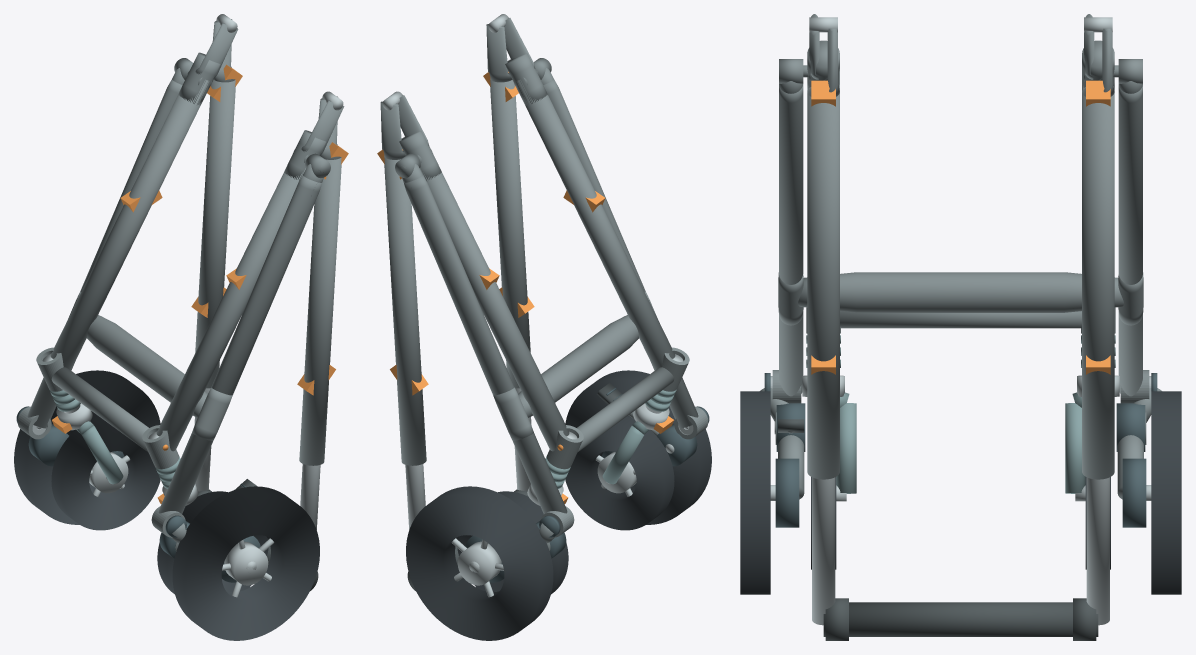
File: w380_state3.glb
The picture shows the model from 3 angles, left to right: view 1: azimuth 30°, elevation 25°; view 2: azimuth 150°, elevation 25°; view 3: azimuth 270°, elevation 25°; orthographic projection. The views are drawn at different scales.
Visible parts, largest first — view 1: RL_tire.013, main_lower_1.001, main_upper_-1.001, V46_rear_leg_-1, FR_tire.013, main_lower_-1.001, main_upper_1.001, RR_tire.013, V46_rearbar, V46_rear_leg_1, front_fixed_round_tube.012, FL_tire.013 (+14 smaller); view 2: RR_tire.013, main_lower_-1.001, main_upper_1.001, V46_rear_leg_1, FL_tire.013, main_lower_1.001, main_upper_-1.001, RL_tire.013, V46_rearbar, V46_rear_leg_-1, front_fixed_round_tube.012, FR_tire.013 (+16 smaller); view 3: main_upper_1.001, main_upper_-1.001, V46_rearbar, round_handle.012, V46_rear_leg_1, V46_rear_leg_-1, RL_tire.013, RR_tire.013, front_fixed_round_tube.012, handle_slider_1.012, handle_slider_-1.012, RL_brake_backplate.013 (+15 smaller).
Part boxes in pixels (<box>): RL_tire.013: <box>172,486,319,640</box>; main_lower_1.001: <box>50,79,209,370</box>; main_upper_-1.001: <box>299,157,341,465</box>; V46_rear_leg_-1: <box>158,175,321,513</box>; FR_tire.013: <box>51,416,160,530</box>; main_lower_-1.001: <box>156,168,305,451</box>; main_upper_1.001: <box>195,80,235,388</box>; RR_tire.013: <box>14,370,160,524</box>; V46_rearbar: <box>87,315,207,417</box>; V46_rear_leg_1: <box>27,79,182,428</box>; front_fixed_round_tube.012: <box>51,367,148,452</box>; FL_tire.013: <box>157,491,268,594</box>; RR_tire.013: <box>406,486,553,640</box>; main_lower_-1.001: <box>516,79,675,370</box>; main_upper_1.001: <box>384,157,426,465</box>; V46_rear_leg_1: <box>404,175,567,513</box>; FL_tire.013: <box>565,416,674,530</box>; main_lower_1.001: <box>420,168,569,451</box>; main_upper_-1.001: <box>490,80,530,388</box>; RL_tire.013: <box>565,370,711,524</box>; V46_rearbar: <box>518,315,638,417</box>; V46_rear_leg_-1: <box>543,79,698,428</box>; front_fixed_round_tube.012: <box>577,367,674,452</box>; FR_tire.013: <box>457,491,568,594</box>; main_upper_1.001: <box>1082,92,1114,479</box>; main_upper_-1.001: <box>807,92,839,479</box>; V46_rearbar: <box>798,272,1123,312</box>; round_handle.012: <box>823,602,1098,636</box>; V46_rear_leg_1: <box>1118,84,1142,396</box>; V46_rear_leg_-1: <box>779,84,803,396</box>; RL_tire.013: <box>740,391,770,594</box>; RR_tire.013: <box>1151,391,1181,594</box>; front_fixed_round_tube.012: <box>840,311,1081,328</box>; handle_slider_1.012: <box>1086,477,1109,625</box>; handle_slider_-1.012: <box>812,477,835,625</box>; RL_brake_backplate.013: <box>775,458,799,527</box>.
Bounding box in the file's own units: 0.2961 × 0.6926 × 0.434.
